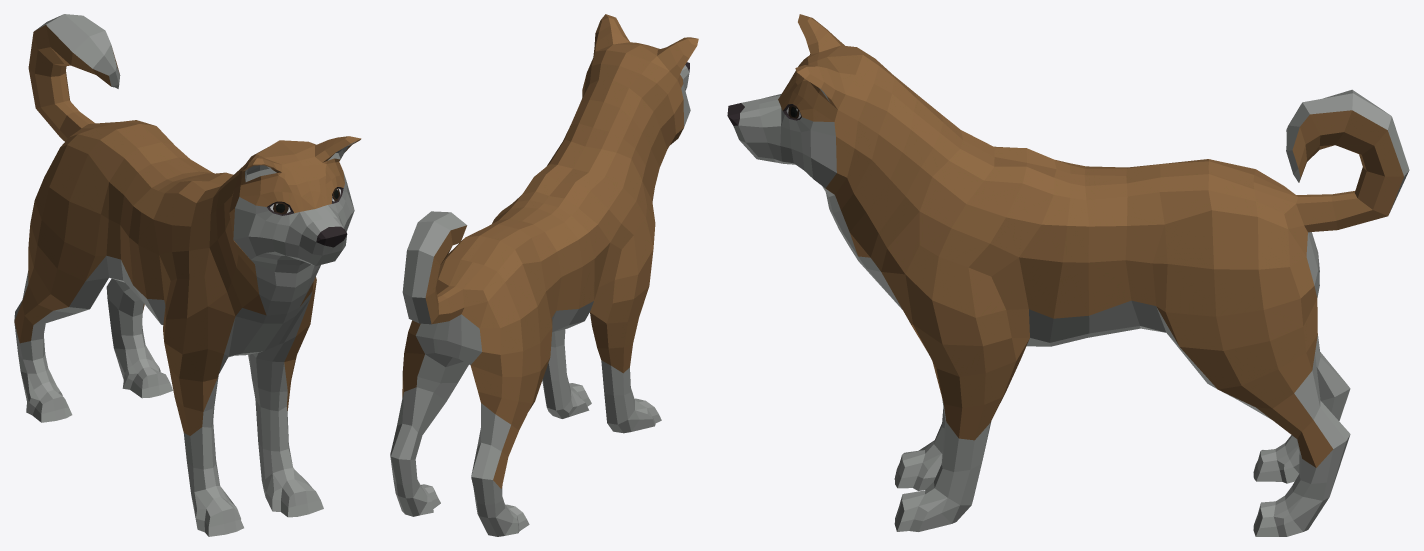
Rendered from ShibaInu.glb.
3 views of the same model, side by side, from view 1: azimuth 30°, elevation 25°; view 2: azimuth 150°, elevation 25°; view 3: azimuth 270°, elevation 25° (orthographic). The views are drawn at different scales.
Parts seen in each view (by area): view 1: ShibaInu_Cube; view 2: ShibaInu_Cube; view 3: ShibaInu_Cube.
Part boxes in pixels (x1=…): ShibaInu_Cube: x1=14, y1=14, x2=361, y2=536; ShibaInu_Cube: x1=390, y1=14, x2=698, y2=536; ShibaInu_Cube: x1=727, y1=14, x2=1409, y2=536.
Size of the model in its own units: 1.07 by 3.09 by 4.16.
Materials: 1 (1 with a texture image).
